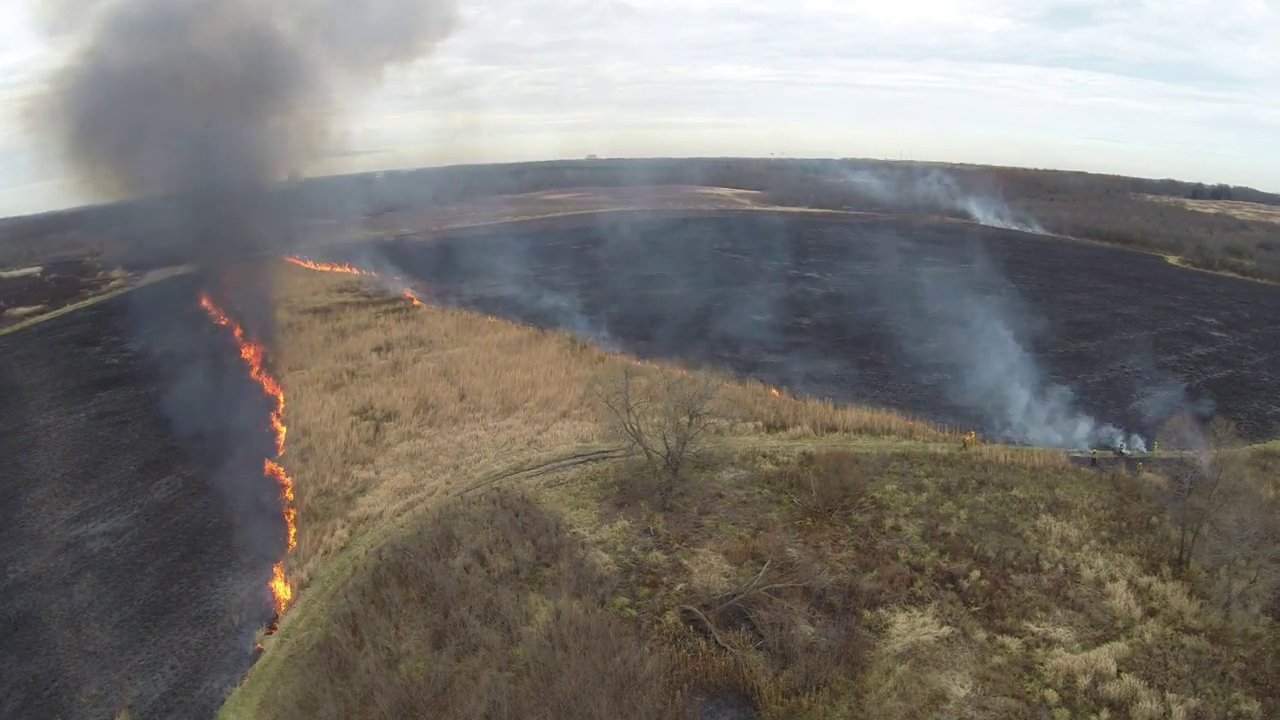forest_fire: (200, 293, 296, 552), (268, 560, 291, 633), (286, 257, 375, 274)
